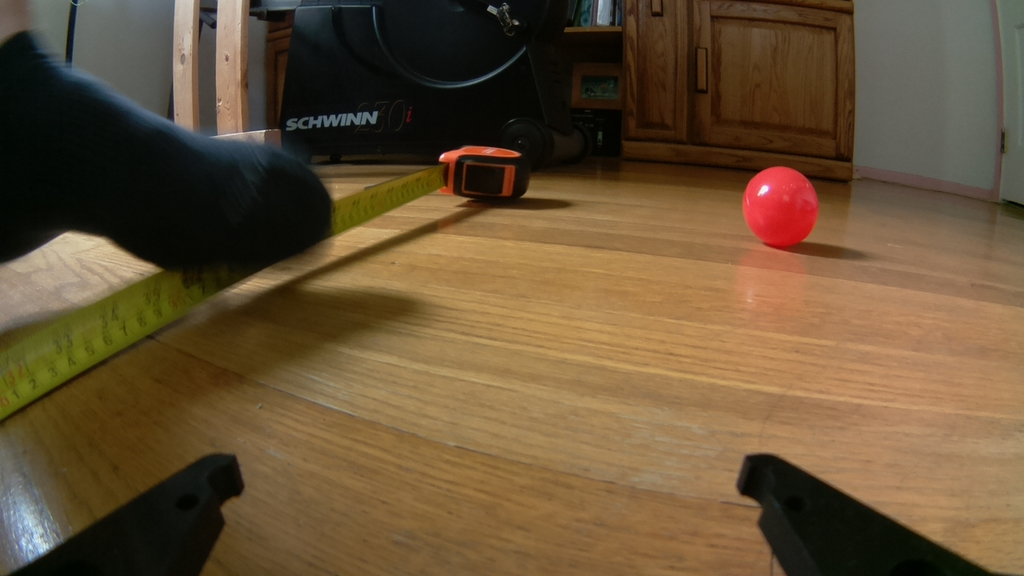ball: (736, 164, 820, 251)
